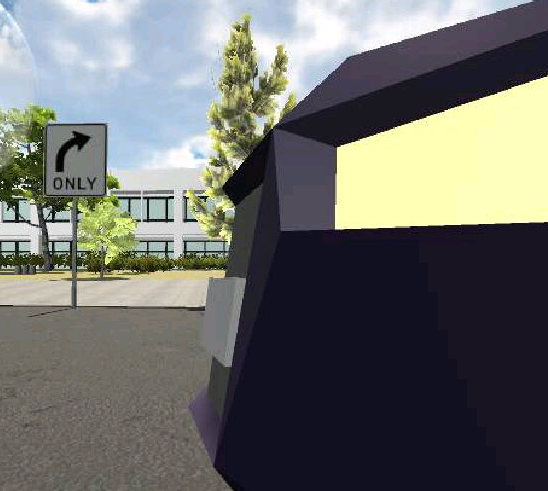turn_right: (51, 130, 93, 173)
